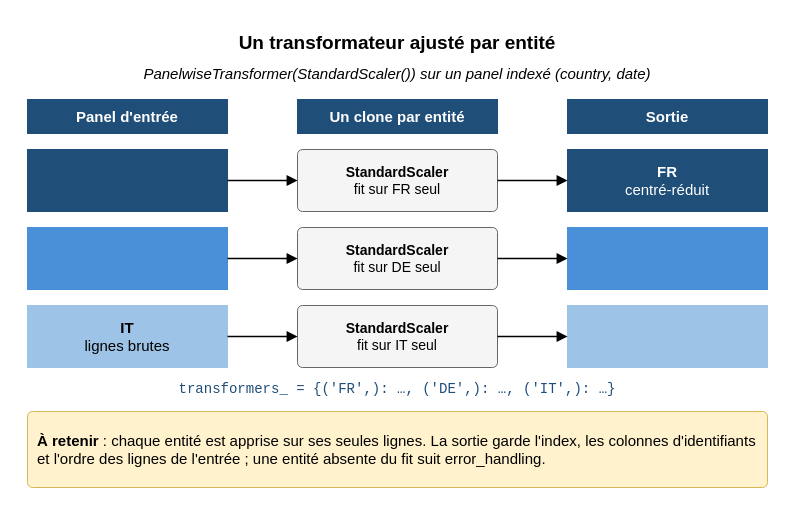
This 794x518 diagram has some shape labels left out. Here are the shapes that lost their labels. From the top down, the centre of each, then its label:
the point at 127,180: FR lignes brutes
the point at 127,258: DE lignes brutes
the point at 667,258: DE centré-réduit
the point at 667,336: IT centré-réduit
